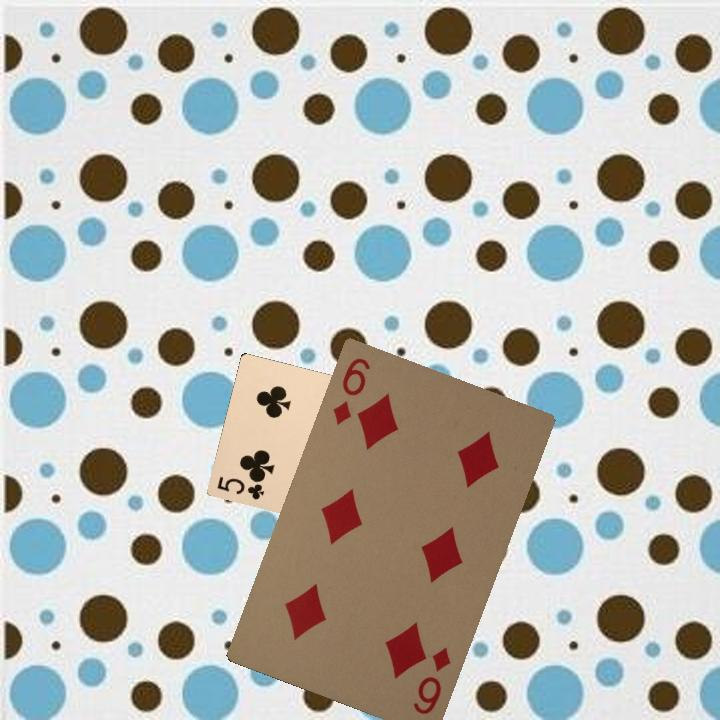5c: (213, 473, 267, 502)
6d: (409, 642, 454, 717), (328, 353, 373, 428)
